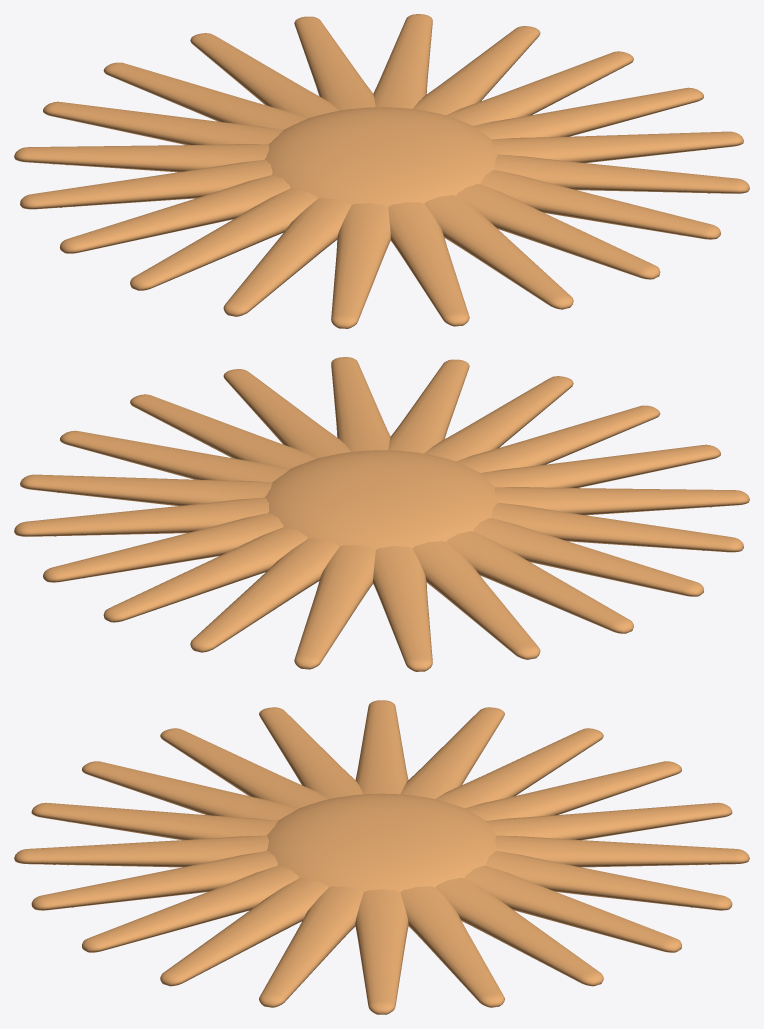
File: starfish_sunflower.glb
3 renders of one model, top to bottom at view 1: azimuth 30°, elevation 25°; view 2: azimuth 150°, elevation 25°; view 3: azimuth 270°, elevation 25°, orthographic.
Visible parts, largest first — view 1: starfish_sunflower; view 2: starfish_sunflower; view 3: starfish_sunflower.
Boxes of the visible parts, left/top/right/bottom form: starfish_sunflower: left=14, top=14, right=749, bottom=328; starfish_sunflower: left=14, top=357, right=749, bottom=671; starfish_sunflower: left=14, top=700, right=749, bottom=1014.
Bounding box in the file's own units: 0.58 × 0.0308 × 0.58.
